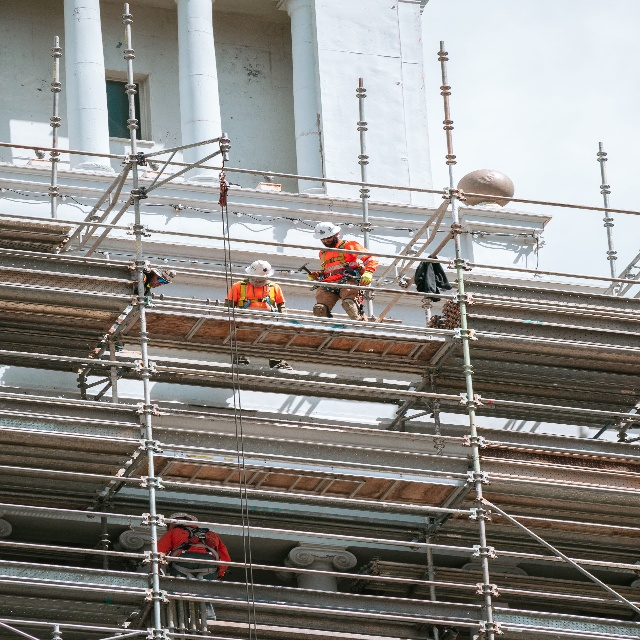Gafas: (157, 277, 168, 285), (321, 236, 332, 241)
Guantes: (360, 268, 373, 286), (307, 271, 318, 281)
